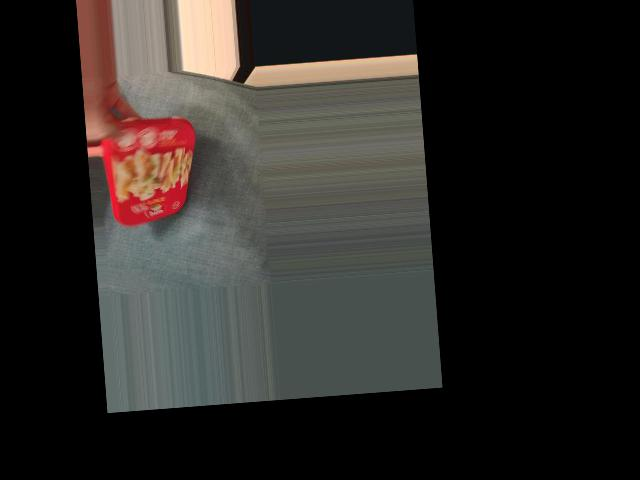cheese: (100, 109, 196, 225)
